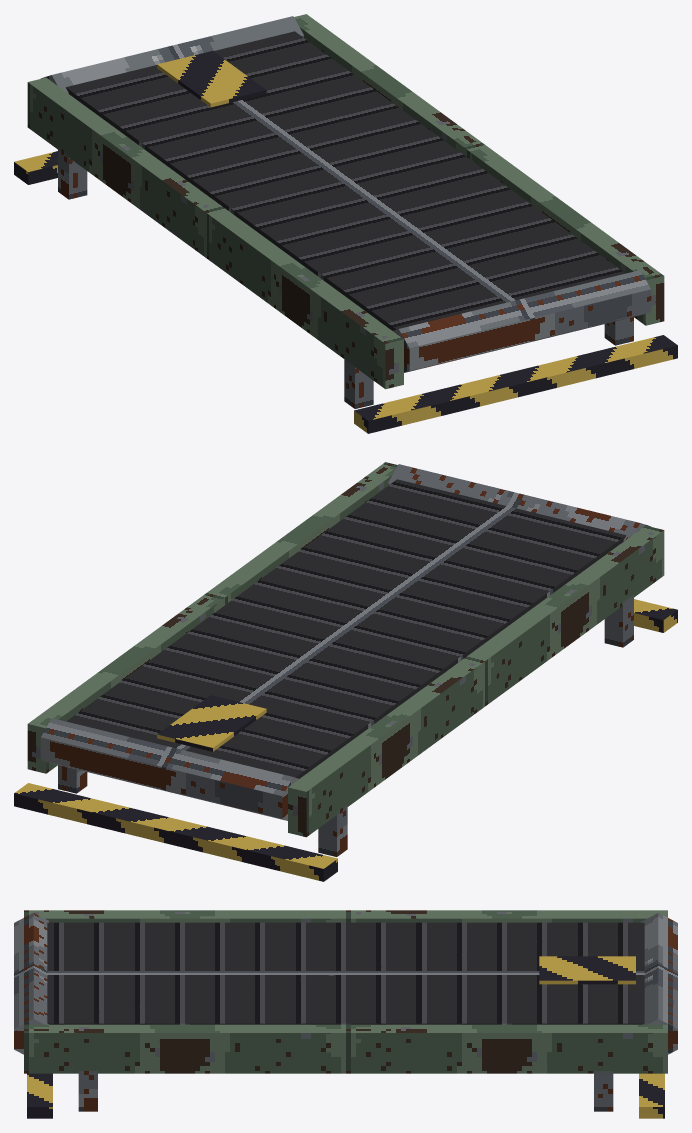
The model's file is machinery__conveyor.glb.
The picture shows the model from 3 angles, top to bottom: view 1: azimuth 30°, elevation 25°; view 2: azimuth 150°, elevation 25°; view 3: azimuth 270°, elevation 25°; orthographic projection. The views are drawn at different scales.
Parts seen in each view (by area): view 1: _MeshInstance3D_50, _MeshInstance3D_52, _MeshInstance3D_49, _MeshInstance3D_51; view 2: _MeshInstance3D_50, _MeshInstance3D_52, _MeshInstance3D_49, _MeshInstance3D_51; view 3: _MeshInstance3D_50, _MeshInstance3D_52, _MeshInstance3D_49, _MeshInstance3D_51.
Boxes of the visible parts, bbox=[...] form: _MeshInstance3D_50: bbox=[66, 31, 625, 330]; _MeshInstance3D_52: bbox=[27, 14, 664, 389]; _MeshInstance3D_49: bbox=[40, 16, 651, 408]; _MeshInstance3D_51: bbox=[14, 51, 677, 433]; _MeshInstance3D_50: bbox=[66, 479, 625, 778]; _MeshInstance3D_52: bbox=[27, 462, 664, 837]; _MeshInstance3D_49: bbox=[40, 464, 651, 856]; _MeshInstance3D_51: bbox=[14, 599, 677, 881]; _MeshInstance3D_50: bbox=[47, 922, 644, 1024]; _MeshInstance3D_52: bbox=[24, 910, 667, 1073]; _MeshInstance3D_49: bbox=[14, 913, 677, 1111]; _MeshInstance3D_51: bbox=[27, 956, 664, 1118].
Size of the model in its own units: 1 by 0.29 by 2.06.
Materials: 4 (4 with a texture image).
